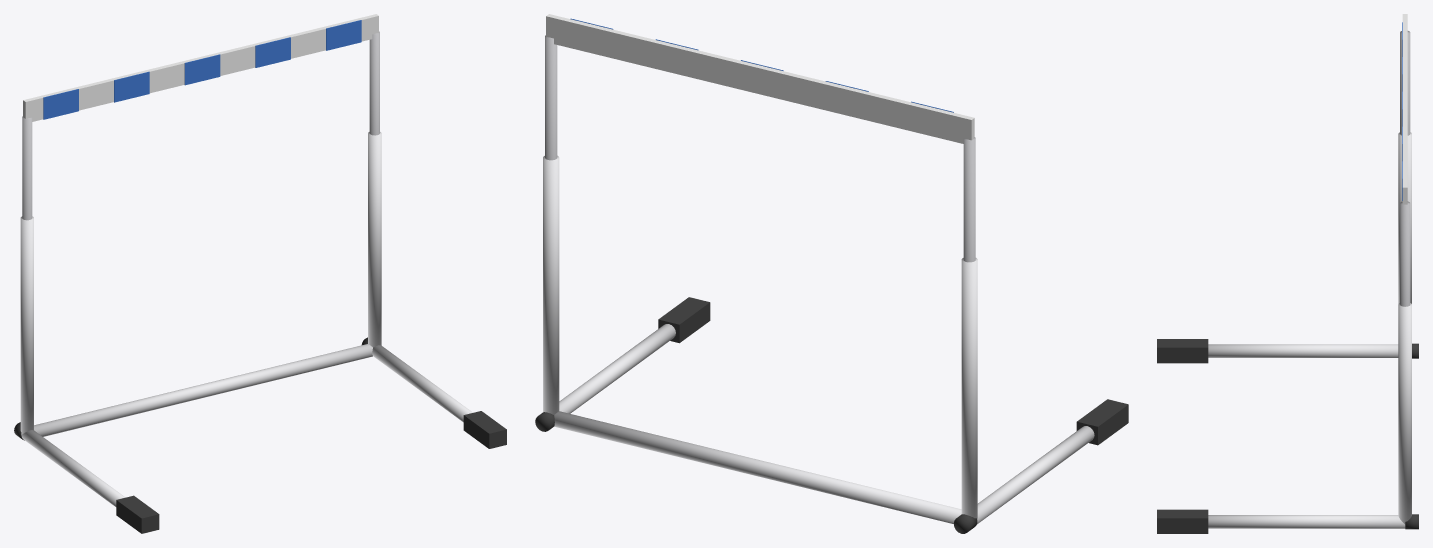
File: Hurdles.glb
3 renders of one model, left to right at view 1: azimuth 30°, elevation 25°; view 2: azimuth 150°, elevation 25°; view 3: azimuth 270°, elevation 25°, orthographic. The views are drawn at different scales.
Parts seen in each view (by area): view 1: Hurdle_CrossBase, Hurdle_TopBoard, Hurdle_Upright_L, Hurdle_Upright_R, Hurdle_Base_L, Hurdle_Base_R, Hurdle_Weight_R, Hurdle_Weight_L, Hurdle_Slider_L, Hurdle_Slider_R, Hurdle_Stripe_3, Hurdle_Stripe_2 (+3 smaller); view 2: Hurdle_TopBoard, Hurdle_CrossBase, Hurdle_Upright_L, Hurdle_Upright_R, Hurdle_Base_L, Hurdle_Base_R, Hurdle_Slider_L, Hurdle_Slider_R, Hurdle_Weight_R, Hurdle_Weight_L; view 3: Hurdle_Upright_R, Hurdle_Base_R, Hurdle_Base_L, Hurdle_Weight_L, Hurdle_Weight_R, Hurdle_TopBoard, Hurdle_Slider_R, Hurdle_Upright_L, Hurdle_Slider_L.
Boxes of the visible parts, <box> form: Hurdle_CrossBase: <box>34,344,372,436</box>; Hurdle_TopBoard: <box>23,14,378,121</box>; Hurdle_Upright_L: <box>20,216,33,434</box>; Hurdle_Upright_R: <box>368,132,381,347</box>; Hurdle_Base_L: <box>21,430,125,506</box>; Hurdle_Base_R: <box>372,345,472,422</box>; Hurdle_Weight_R: <box>463,411,506,448</box>; Hurdle_Weight_L: <box>116,495,159,533</box>; Hurdle_Slider_L: <box>22,116,32,220</box>; Hurdle_Slider_R: <box>369,31,379,135</box>; Hurdle_Stripe_3: <box>184,54,220,85</box>; Hurdle_Stripe_2: <box>114,71,149,102</box>; Hurdle_TopBoard: <box>546,14,974,143</box>; Hurdle_CrossBase: <box>554,411,961,523</box>; Hurdle_Upright_L: <box>961,258,977,519</box>; Hurdle_Upright_R: <box>543,155,559,414</box>; Hurdle_Base_L: <box>977,426,1094,524</box>; Hurdle_Base_R: <box>559,324,675,413</box>; Hurdle_Slider_L: <box>963,137,975,262</box>; Hurdle_Slider_R: <box>545,35,557,160</box>; Hurdle_Weight_R: <box>658,297,710,343</box>; Hurdle_Weight_L: <box>1076,399,1128,445</box>; Hurdle_Upright_R: <box>1398,303,1411,524</box>; Hurdle_Base_R: <box>1208,515,1405,528</box>; Hurdle_Base_L: <box>1208,344,1398,357</box>; Hurdle_Weight_L: <box>1157,339,1208,363</box>; Hurdle_Weight_R: <box>1157,509,1208,533</box>; Hurdle_TopBoard: <box>1402,14,1407,204</box>; Hurdle_Slider_R: <box>1400,201,1410,306</box>; Hurdle_Upright_L: <box>1398,132,1411,304</box>; Hurdle_Slider_L: <box>1400,31,1410,135</box>.
Bounding box in the file's own units: 1.24 × 1.11 × 0.765.
